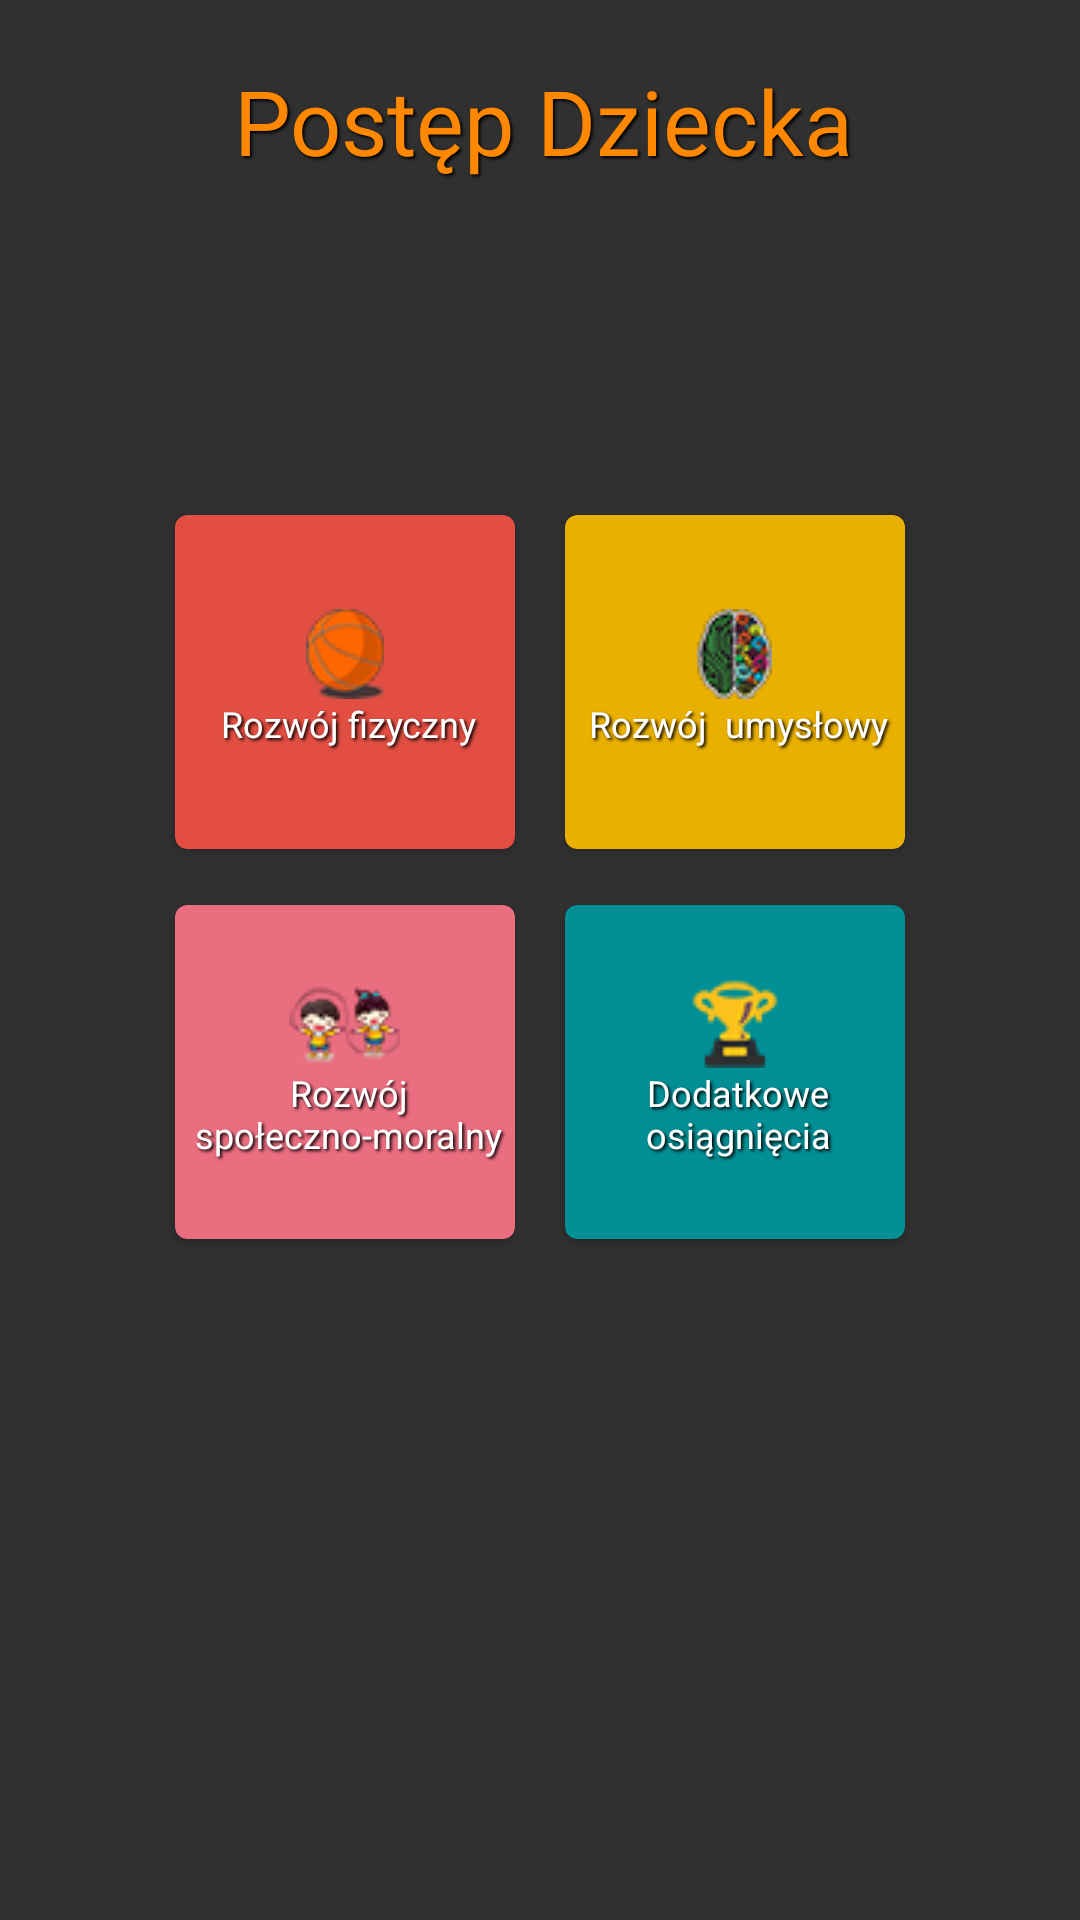

Where icons sit on this 1080 x 1920 app screen, as BBox(x1, y1, x2, y2):
ball: BBox(306, 609, 384, 699)
brainn: BBox(697, 609, 772, 699)
kisspsocial: BBox(289, 987, 400, 1062)
prize: BBox(692, 980, 778, 1068)
